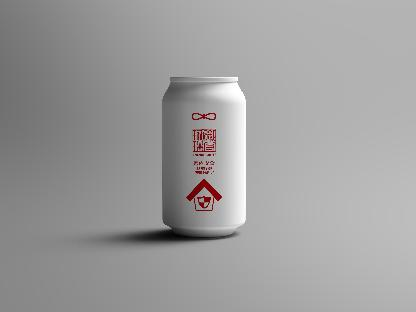Can: (158, 71, 250, 242)
